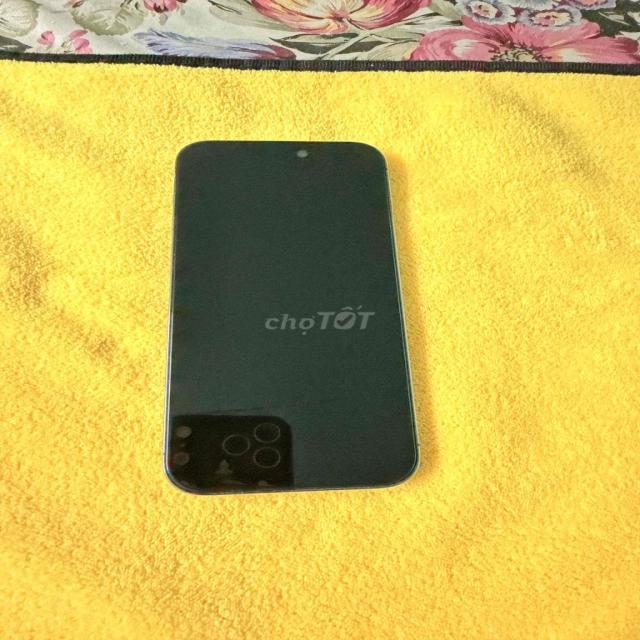gen_14: (140, 132, 432, 498)
